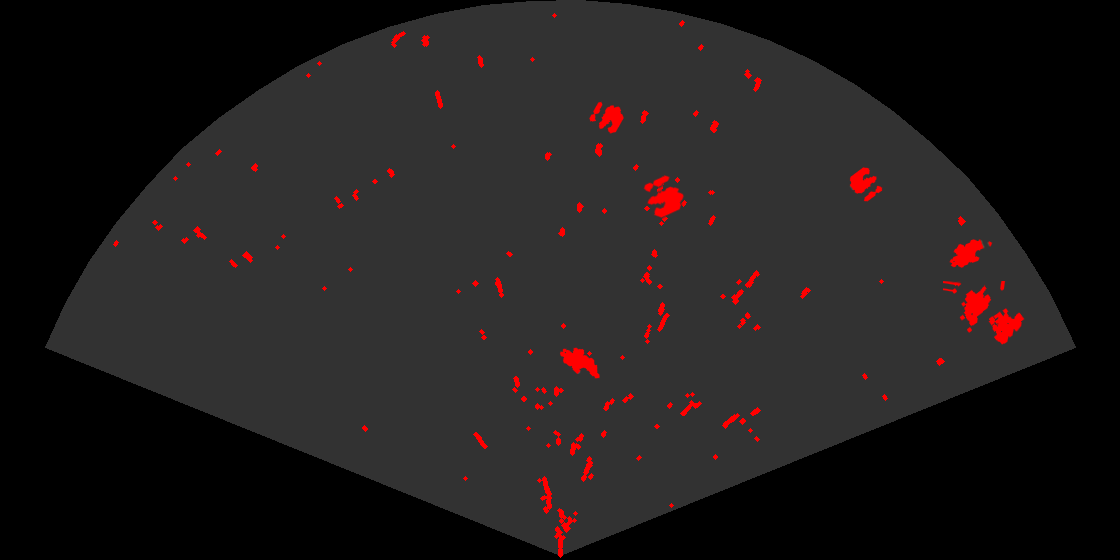AUV: (558, 346, 601, 380), (948, 238, 994, 269)
ball: (642, 174, 686, 220), (848, 166, 884, 203), (588, 100, 625, 135)
cage: (943, 281, 1026, 346)
